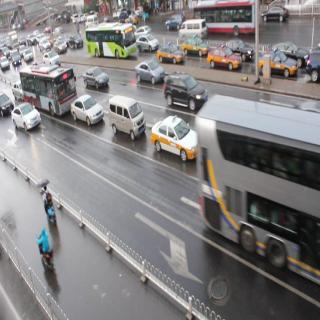BigCar: (193, 98, 320, 278), (18, 63, 75, 117), (188, 3, 256, 37), (82, 25, 140, 60)
Car: (100, 92, 148, 143), (151, 115, 195, 163), (164, 66, 208, 108), (70, 90, 104, 132), (257, 46, 295, 81), (275, 37, 310, 70), (10, 100, 42, 136), (210, 44, 242, 76), (80, 63, 111, 90), (133, 58, 165, 84), (181, 31, 207, 60), (177, 16, 206, 42), (228, 37, 255, 61), (136, 29, 158, 56), (260, 4, 289, 24), (159, 45, 183, 65), (41, 49, 60, 74), (164, 13, 186, 31), (69, 31, 84, 54), (10, 49, 22, 66), (2, 54, 12, 74), (24, 48, 34, 63)
